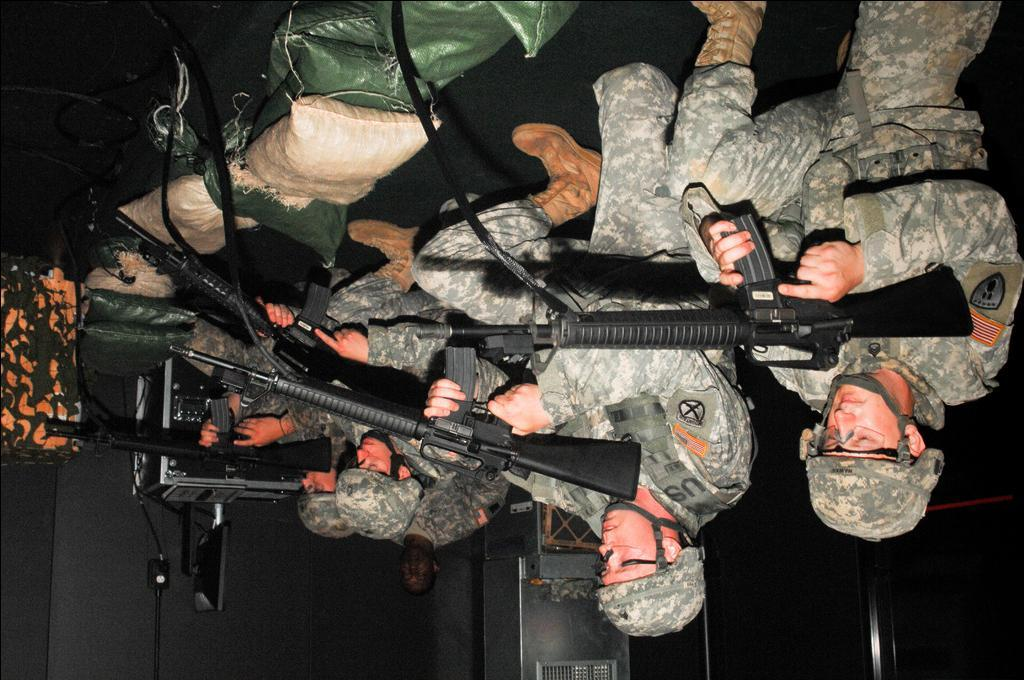gun: (416, 211, 986, 374), (168, 345, 640, 500), (45, 396, 329, 477)
